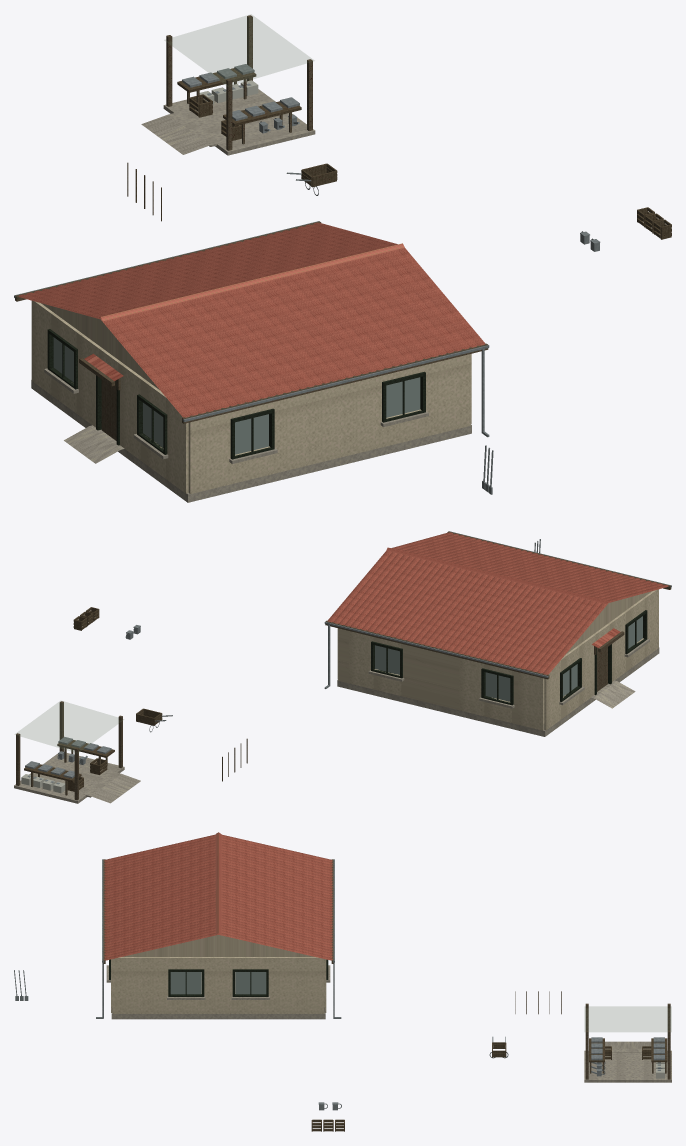
3 views of the same model, one above another, from view 1: azimuth 30°, elevation 25°; view 2: azimuth 150°, elevation 25°; view 3: azimuth 270°, elevation 25° (orthographic). The views are drawn at different scales.
Parts seen in each view (by area): view 1: H30_TELHAS, H30_LATERAIS, H30_FACHADA, NEXT_SOFT_H30_TELADO_SOMBRITE, H30_FUNDACAO, H30_VIDROS_RECUADOS, H30_TELADO_BASE, H30_CAIXILHOS, H30_BEIRAIS, H30_TELADO_POSTES, H30_OITOES, H30_CUMEEIRA (+7 smaller); view 2: H30_TELHAS, H30_LATERAIS, H30_FACHADA, NEXT_SOFT_H30_TELADO_SOMBRITE, H30_FUNDACAO, H30_VIDROS_RECUADOS, H30_TELADO_BASE, H30_CAIXILHOS, H30_BEIRAIS, H30_TELADO_POSTES, H30_OITOES, H30_CUMEEIRA (+8 smaller); view 3: H30_TELHAS, H30_FUNDOS, NEXT_SOFT_H30_TELADO_SOMBRITE, H30_OITOES, H30_TELADO_BASE, H30_VIDROS_RECUADOS, H30_FUNDACAO, H30_CAIXILHOS, H30_CUMEEIRA, H30_TELADO_POSTES, H30_TELADO_BANDEJAS, H30_BEIRAIS.
Part boxes in pixels (x1,y1,x2,y2): H30_TELHAS: (18,222,485,417); H30_LATERAIS: (188,354,470,493); H30_FACHADA: (31,300,188,493); NEXT_SOFT_H30_TELADO_SOMBRITE: (164,14,314,86); H30_FUNDACAO: (31,380,471,502); H30_VIDROS_RECUADOS: (53,337,420,454); H30_TELADO_BASE: (163,89,315,155); H30_CAIXILHOS: (47,329,425,459); H30_BEIRAIS: (15,221,488,423); H30_TELADO_POSTES: (166,15,312,150); H30_OITOES: (41,303,159,389); H30_CUMEEIRA: (99,243,404,321); H30_TELHAS: (327,532,668,674); H30_LATERAIS: (338,628,544,730); H30_FACHADA: (544,589,658,730); NEXT_SOFT_H30_TELADO_SOMBRITE: (15,701,123,752); H30_FUNDACAO: (337,647,659,736); H30_VIDROS_RECUADOS: (375,616,642,701); H30_TELADO_BASE: (14,753,124,803); H30_CAIXILHOS: (371,610,647,705); H30_BEIRAIS: (325,531,671,679); H30_TELADO_POSTES: (16,701,122,800); H30_OITOES: (565,591,651,654); H30_CUMEEIRA: (386,547,609,604); H30_TELHAS: (104,834,332,960); H30_FUNDOS: (113,957,323,1013); NEXT_SOFT_H30_TELADO_SOMBRITE: (584,1006,671,1031); H30_OITOES: (122,935,314,956); H30_TELADO_BASE: (584,1050,671,1082); H30_VIDROS_RECUADOS: (170,972,266,994); H30_FUNDACAO: (111,972,325,1019); H30_CAIXILHOS: (109,959,328,996); H30_CUMEEIRA: (215,832,221,934); H30_TELADO_POSTES: (585,1003,670,1079); H30_TELADO_BANDEJAS: (591,1037,664,1060); H30_BEIRAIS: (103,859,333,963).
Bounding box in the file's own units: 22.63 × 4.28 × 28.54.
12 materials, 8 textured.
